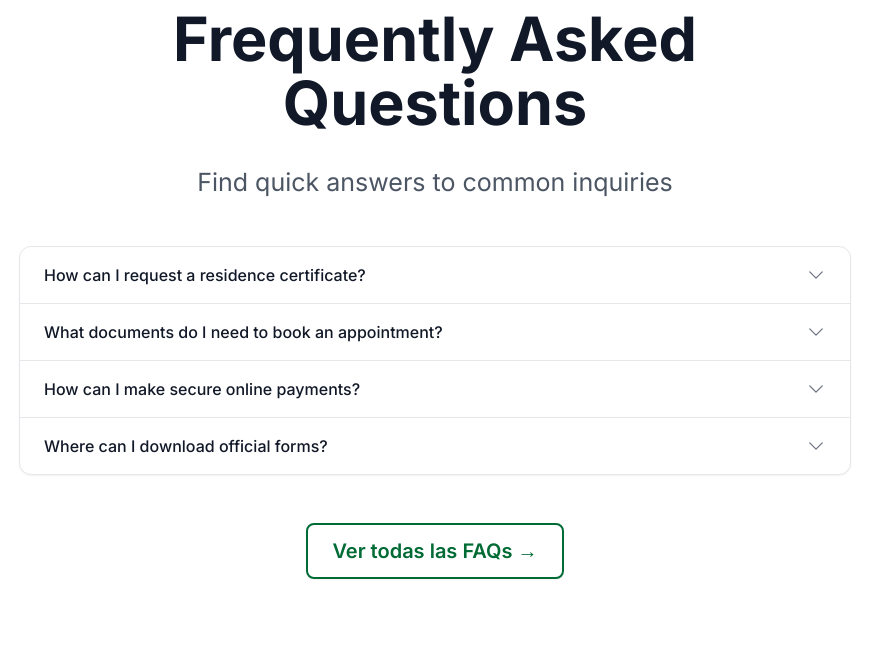
Test: FAQPreview Component › Accordion Functionality › opens FAQ on click
What coordinates should you click on to do the following:
click the button "How can I request a residence certificate?"
I would click on:
 (205, 275)
Its box is x1=20 y1=246 x2=850 y2=302.
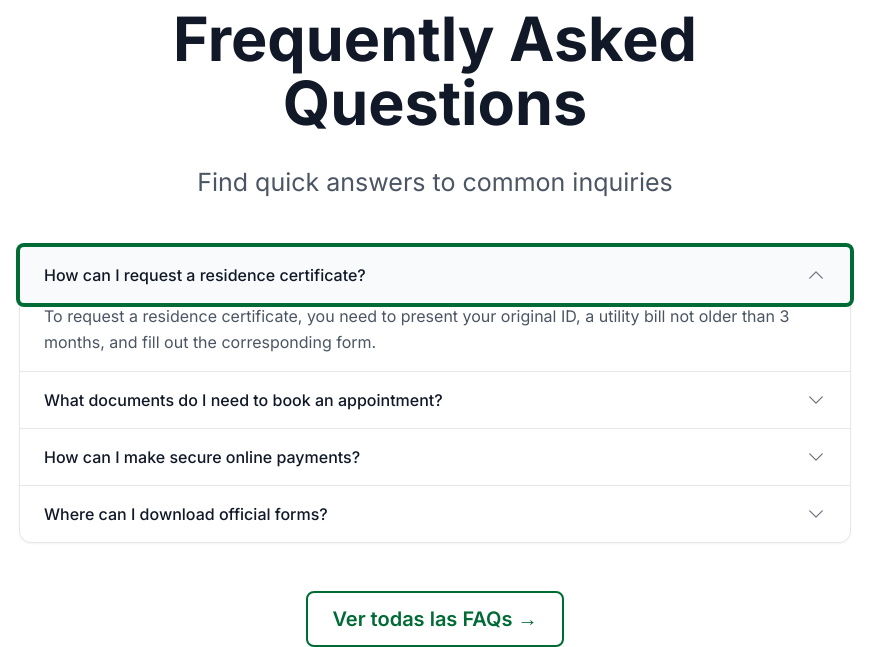
Check: the text "To request a residence certificate" is shown, box x1=44 y1=306 x2=789 y2=352
